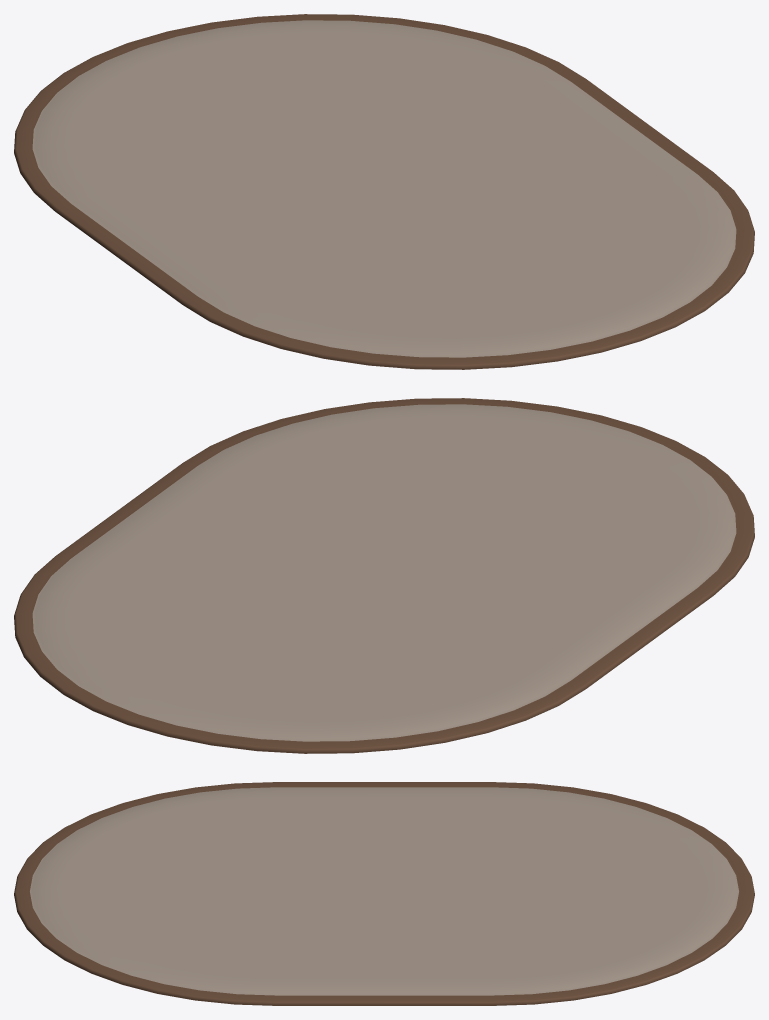
Rendered from tapete_oval_cinza_xadrez_pacote.glb.
The picture shows the model from 3 angles, top to bottom: view 1: azimuth 30°, elevation 25°; view 2: azimuth 150°, elevation 25°; view 3: azimuth 270°, elevation 25°; orthographic projection. The views are drawn at different scales.
Visible parts, largest first — view 1: tapete_oval_cinza_xadrez_pacote; view 2: tapete_oval_cinza_xadrez_pacote; view 3: tapete_oval_cinza_xadrez_pacote.
Boxes of the visible parts, <box> form: tapete_oval_cinza_xadrez_pacote: <box>14,14,754,369</box>; tapete_oval_cinza_xadrez_pacote: <box>14,398,754,753</box>; tapete_oval_cinza_xadrez_pacote: <box>14,782,754,1005</box>.
Size of the model in its own units: 2.63 by 0.0403 by 3.73.
Materials: 1 (1 with a texture image).
